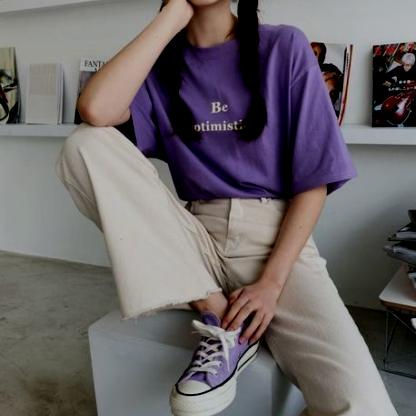dress: (63, 130, 397, 416), (125, 20, 350, 204)
